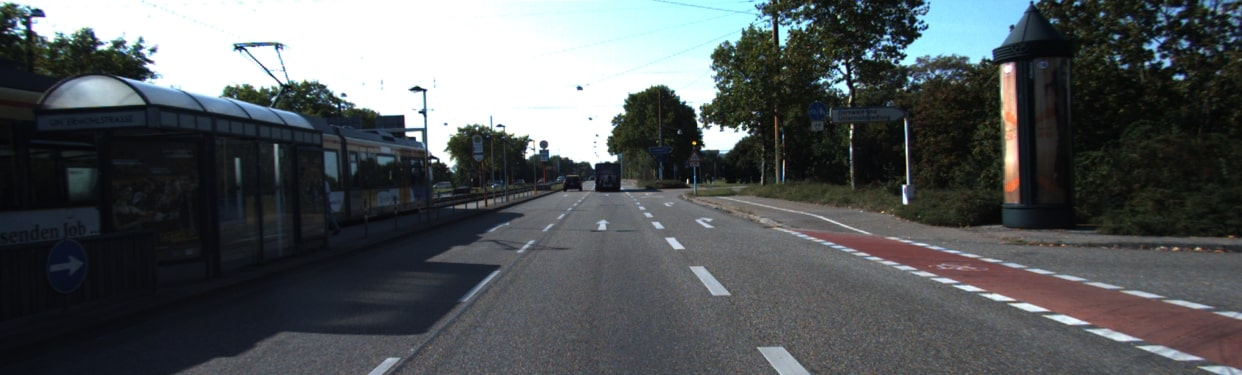Tram: (18, 72, 448, 222)
car: (589, 156, 624, 198), (558, 174, 582, 194)
